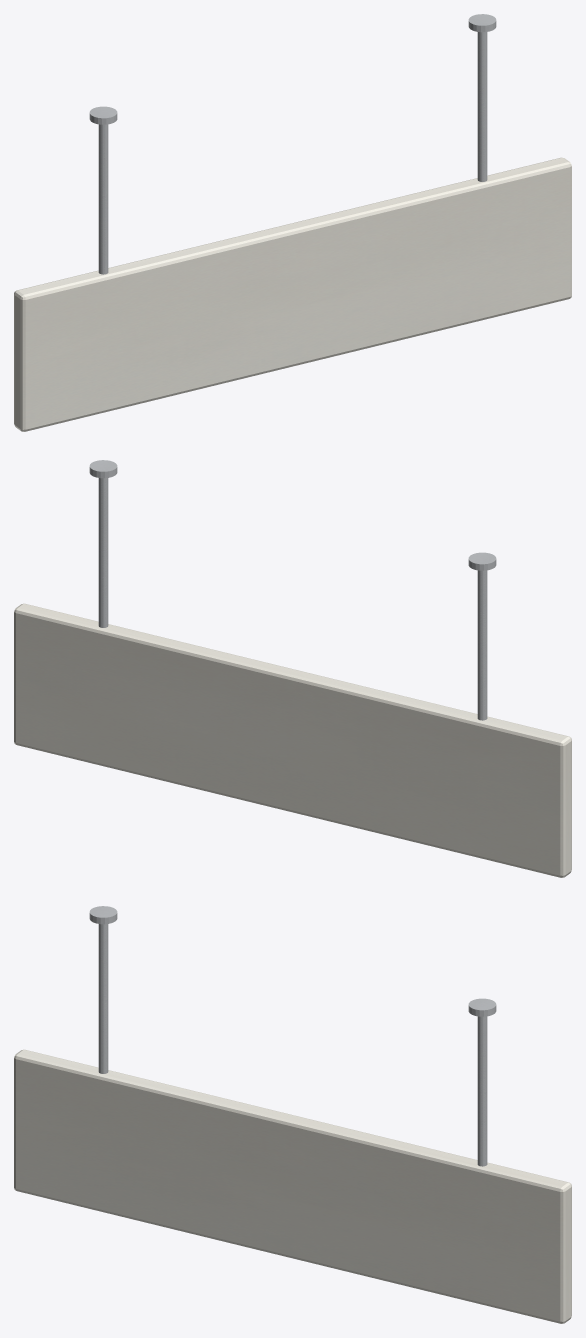
The model's file is hanging_sign.glb.
3 renders of one model, top to bottom at view 1: azimuth 30°, elevation 25°; view 2: azimuth 150°, elevation 25°; view 3: azimuth 330°, elevation 25°, orthographic.
Visible parts, largest first — view 1: Blank department sign, Perfectly straight suspension rod, Perfectly straight suspension rod.001; view 2: Blank department sign, Perfectly straight suspension rod, Perfectly straight suspension rod.001; view 3: Blank department sign, Perfectly straight suspension rod.001, Perfectly straight suspension rod.
Boxes of the visible parts, box(x1,y1,x2,y2) form: Blank department sign: box(14, 157, 571, 431); Perfectly straight suspension rod: box(98, 124, 108, 274); Perfectly straight suspension rod.001: box(477, 32, 487, 181); Blank department sign: box(14, 603, 571, 877); Perfectly straight suspension rod: box(477, 570, 487, 720); Perfectly straight suspension rod.001: box(98, 478, 108, 627); Blank department sign: box(14, 1049, 571, 1323); Perfectly straight suspension rod.001: box(477, 1016, 487, 1166); Perfectly straight suspension rod: box(98, 924, 108, 1073).
Bounding box in the file's own units: 1.6 × 0.824 × 0.07.
Materials: 2 (2 with a texture image).
